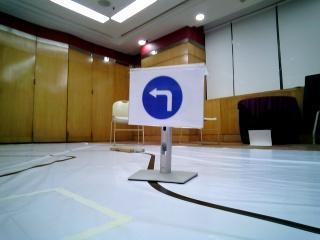left: (129, 67, 202, 122)
